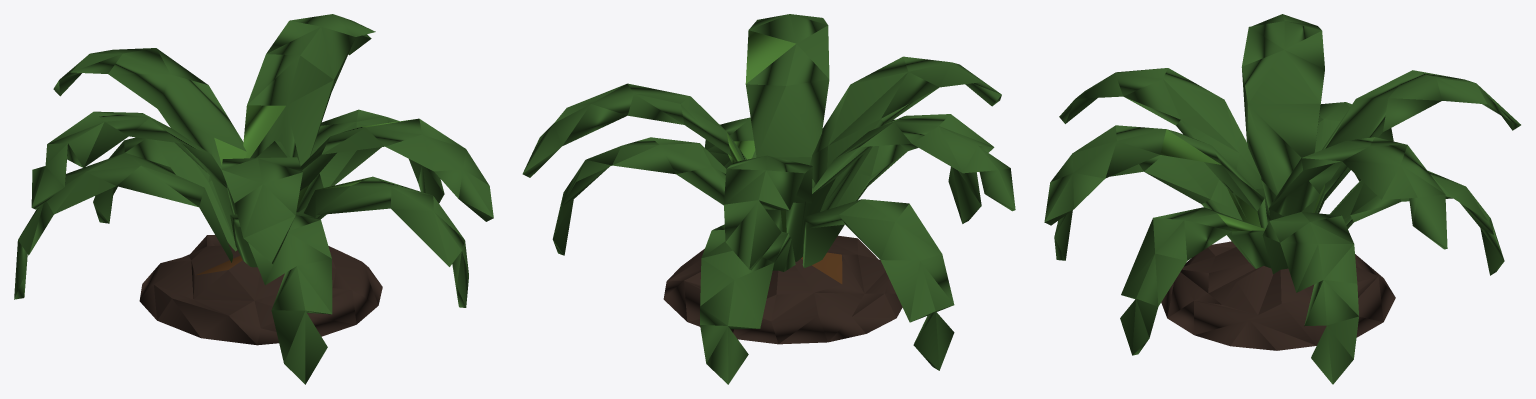
Rendered from prop.fern.glb.
3 renders of one model, left to right at view 1: azimuth 30°, elevation 25°; view 2: azimuth 150°, elevation 25°; view 3: azimuth 270°, elevation 25°, orthographic.
Parts seen in each view (by area): view 1: asset; view 2: asset; view 3: asset.
Part boxes in pixels (x1,y1,x2,y2): asset: [14, 14, 493, 384]; asset: [522, 14, 1015, 384]; asset: [1044, 14, 1520, 384].
Size of the model in its own units: 1.19 by 0.55 by 1.16.
